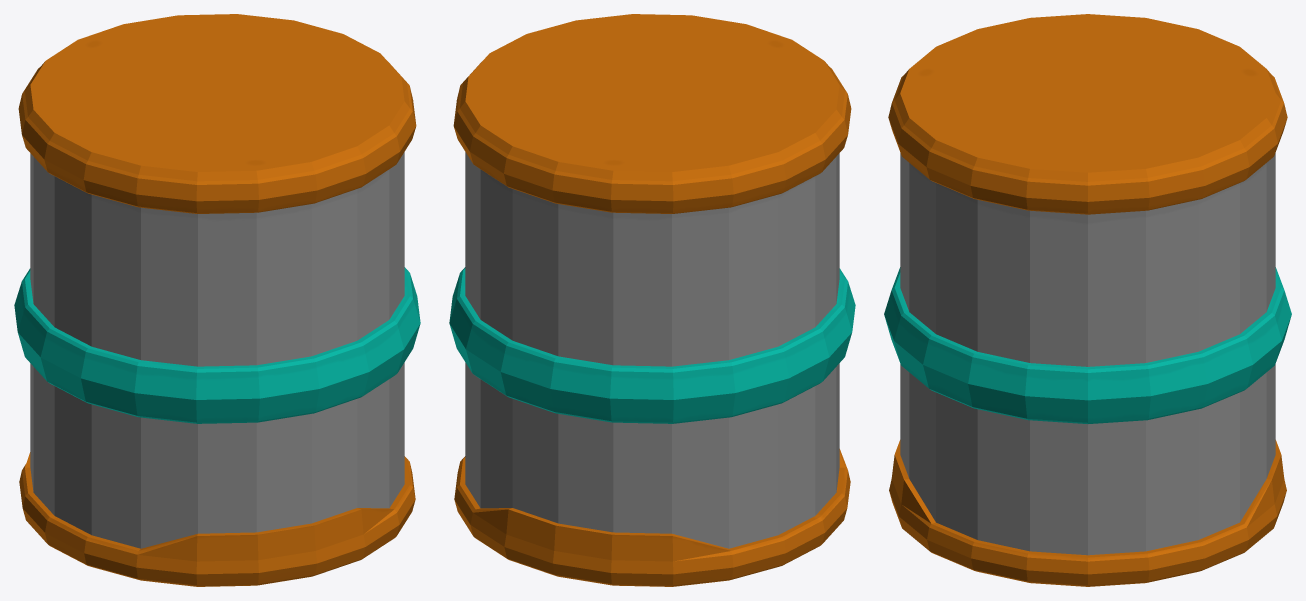
Rendered from Barrel1.fbx.
3 views of the same model, side by side, from view 1: azimuth 30°, elevation 25°; view 2: azimuth 150°, elevation 25°; view 3: azimuth 270°, elevation 25° (orthographic).
Parts seen in each view (by area): view 1: Barrel1; view 2: Barrel1; view 3: Barrel1.
Boxes of the visible parts, x1,y1,x2,y2 form: Barrel1: (14,14,420,586); Barrel1: (449,14,855,586); Barrel1: (884,14,1291,586).
Bounding box in the file's own units: 174 × 195 × 174.
